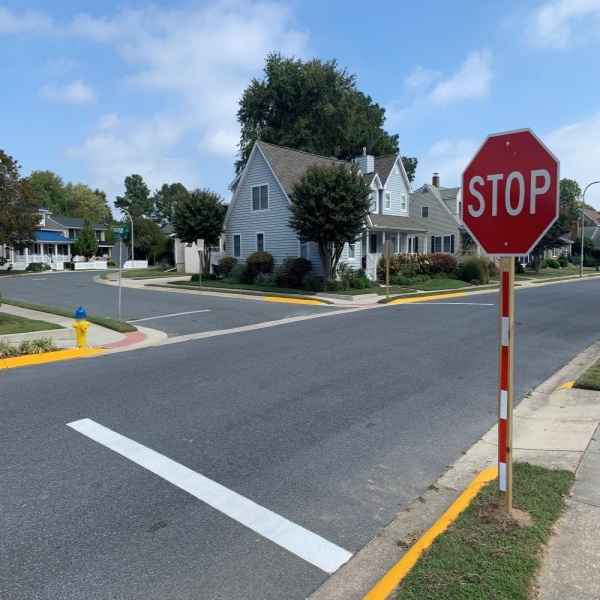stop: (465, 133, 556, 255)
